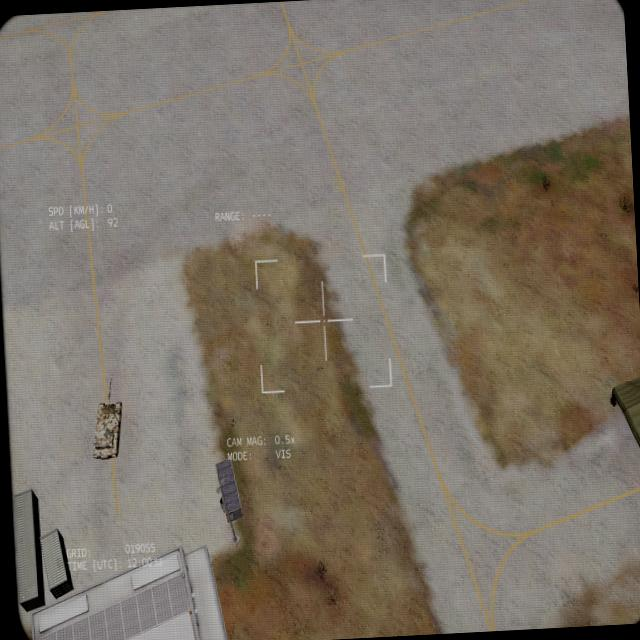tank: (87, 376, 126, 462)
